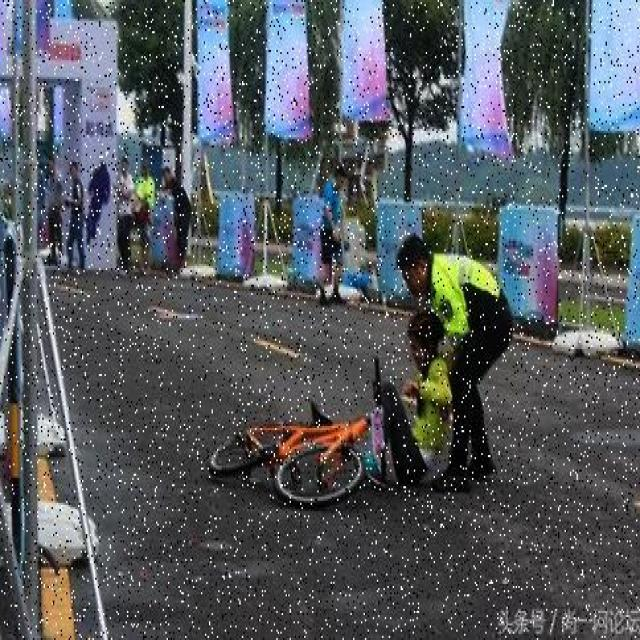fall: (362, 314, 448, 492)
